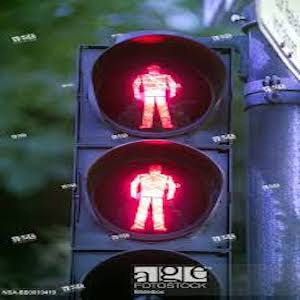red: (128, 161, 186, 235), (125, 60, 177, 129)
